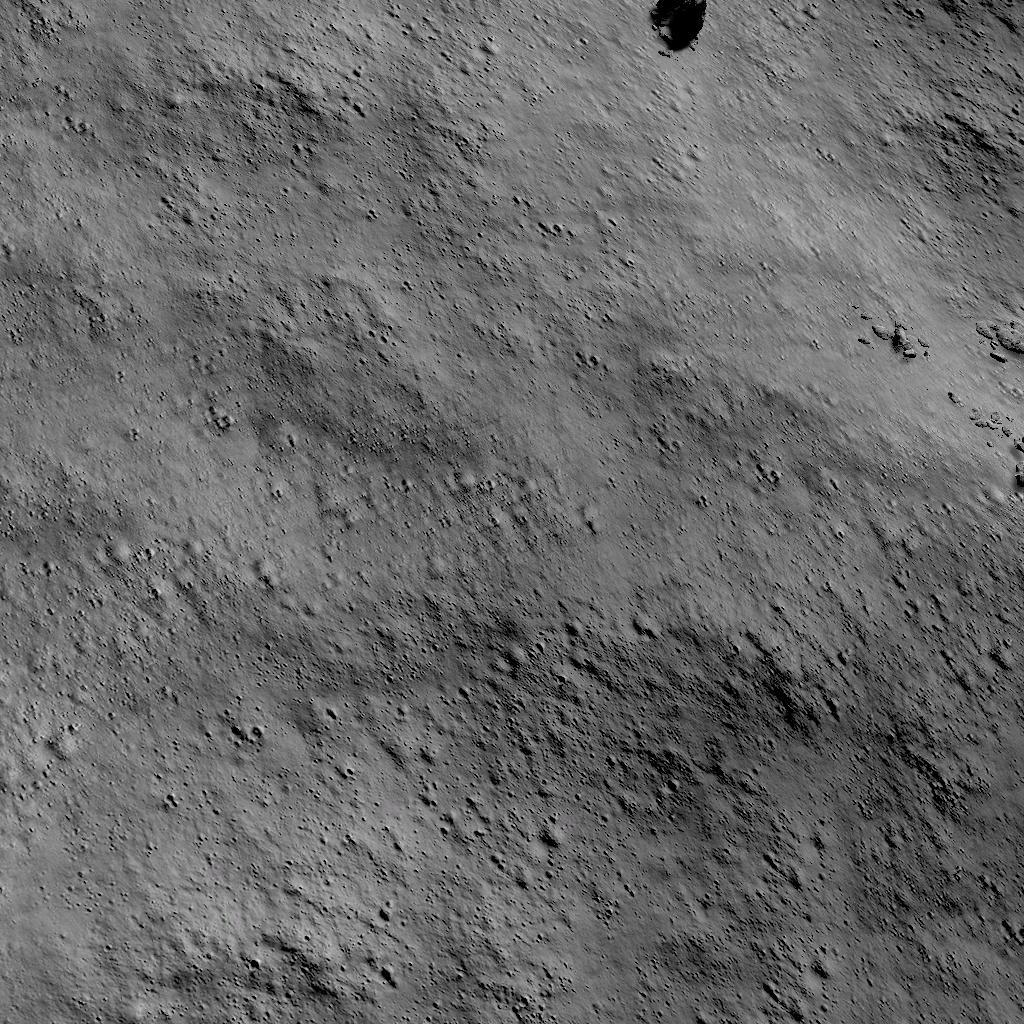Plan surface: (0, 62, 862, 1024)
